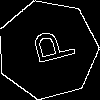P: (23, 24, 77, 69)
